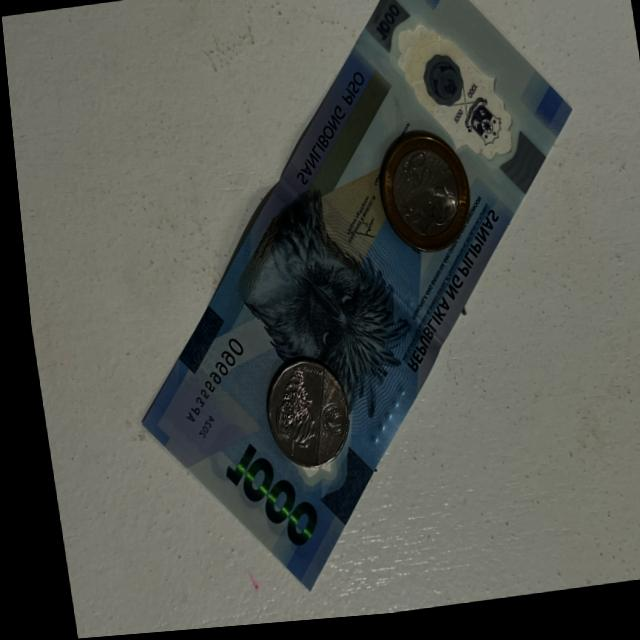10_New_Back: (255, 357, 319, 468)
20_New_Front: (390, 155, 433, 198)
security_thread: (277, 165, 442, 352)
serial_number: (162, 332, 248, 431)
